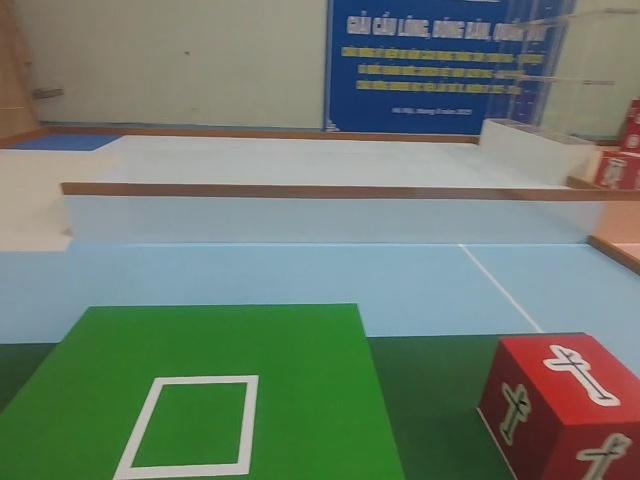R2 Real: (473, 331, 640, 480)
